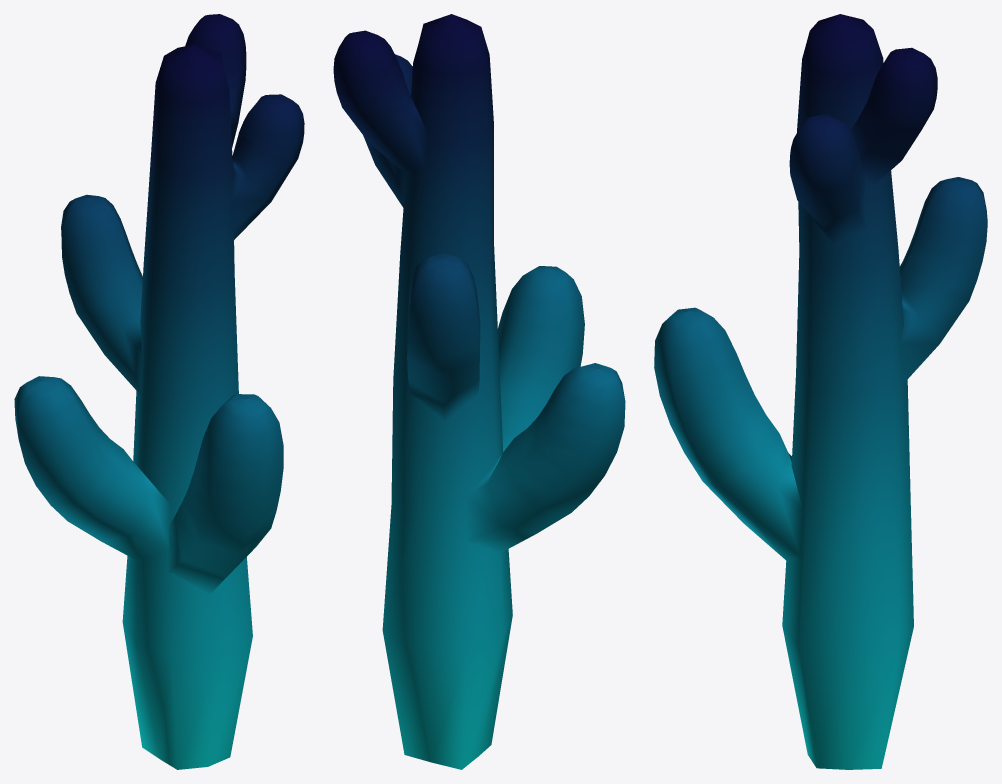
The model's file is Saguaro4.fbx.
The picture shows the model from 3 angles, left to right: view 1: azimuth 30°, elevation 25°; view 2: azimuth 150°, elevation 25°; view 3: azimuth 270°, elevation 25°; orthographic projection. The views are drawn at different scales.
Parts seen in each view (by area): view 1: Saguaro4_LOD0; view 2: Saguaro4_LOD0; view 3: Saguaro4_LOD0.
Boxes of the visible parts, box(x1,y1,x2,y2) form: Saguaro4_LOD0: box(14, 14, 304, 769); Saguaro4_LOD0: box(333, 14, 625, 769); Saguaro4_LOD0: box(654, 14, 987, 769).
Size of what is drawn, in the model's own units: 94.79 by 239 by 97.45.
